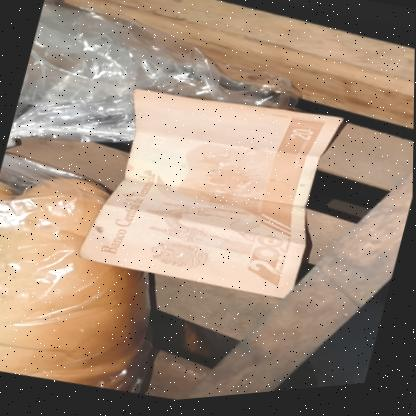twenty-back-vef: (74, 68, 345, 323)
